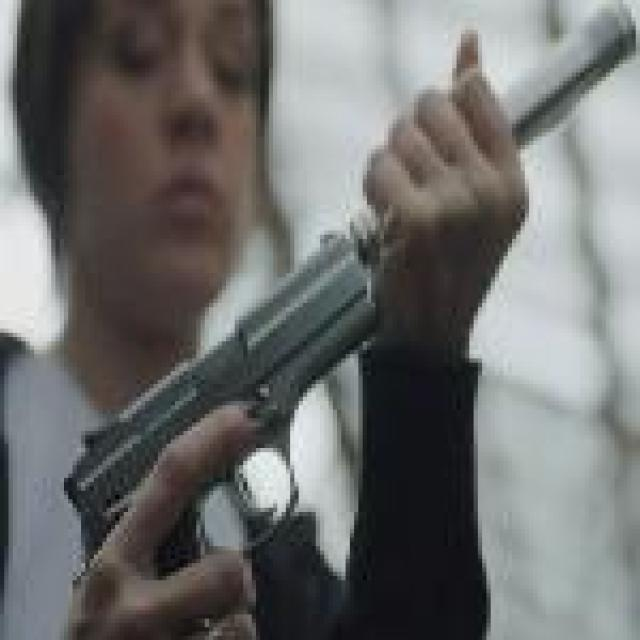weapons: (75, 3, 636, 615)
